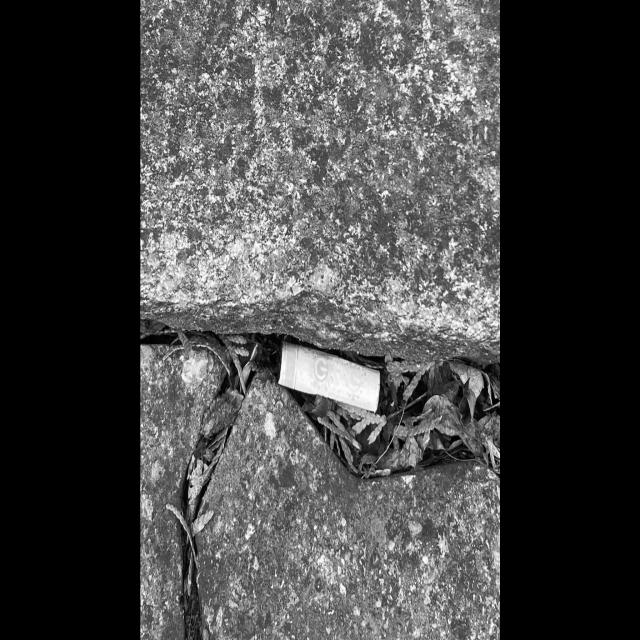other waste: (274, 338, 382, 415)
